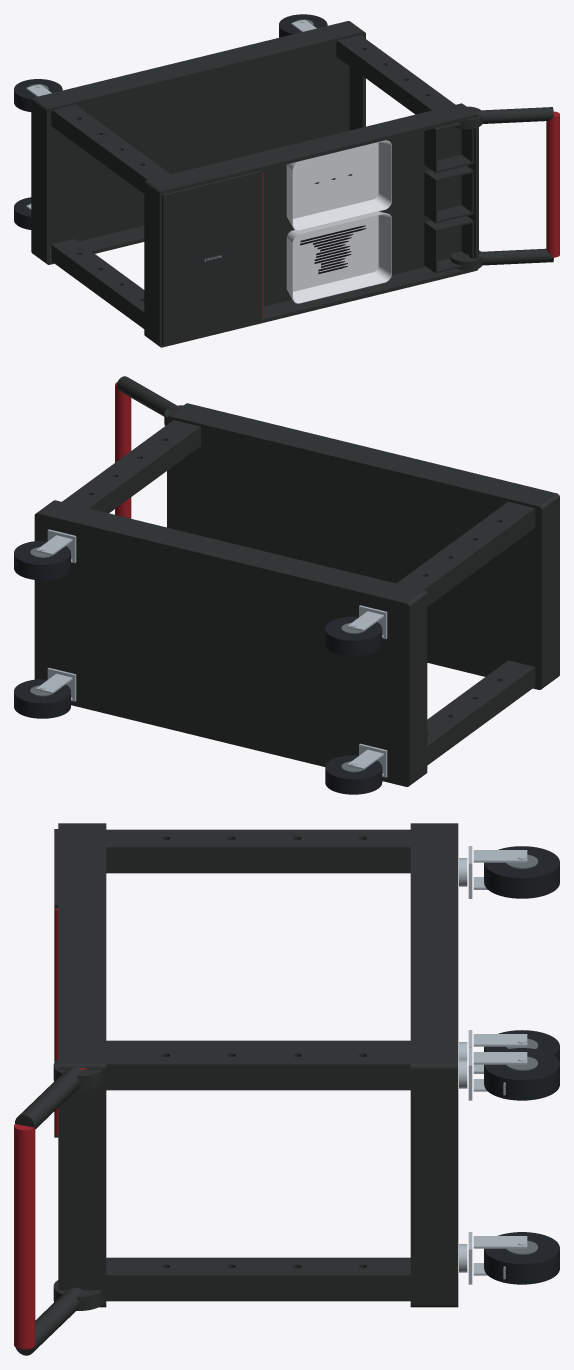
The model's file is weather_station_storage_candidate.glb.
The picture shows the model from 3 angles, top to bottom: view 1: azimuth 30°, elevation 25°; view 2: azimuth 150°, elevation 25°; view 3: azimuth 270°, elevation 25°; orthographic projection. The views are drawn at different scales.
Parts seen in each view (by area): view 1: cart__lower_shelf, cart__upper_shelf, cart__folding_work_surface, plugs_tray__formed_tray, cutoffs_tray__formed_tray, cart__perforated_leg_-0.43_0.195, cart__perforated_leg_0.43_0.195, cart__perforated_leg_-0.43_-0.195, cart__handle_storage_well_0, cart__handle_storage_well_-0.145, cart__handle_storage_well_0.145, cart__handle_crossbar (+7 smaller); view 2: cart__lower_shelf, cart__upper_shelf, cart__perforated_leg_-0.43_0.195, cart__perforated_leg_0.43_0.195, cart__perforated_leg_-0.43_-0.195, cart__rubber_wheel_-0.4_0.17, cart__rubber_wheel_-0.4_-0.17, cart__rubber_wheel_0.4_-0.17, cart__rubber_wheel_0.4_0.17, cart__handle_crossbar, cart__handle_arm_0.204; view 3: cart__lower_shelf, cart__upper_shelf, cart__perforated_leg_0.43_0.195, cart__perforated_leg_0.43_-0.195, cart__perforated_leg_-0.43_0.195, cart__handle_crossbar, cart__rubber_wheel_-0.4_0.17, cart__rubber_wheel_0.4_0.17, cart__rubber_wheel_0.4_-0.17, cart__perforated_leg_-0.43_-0.195, cart__handle_arm_0.204, cart__handle_arm_-0.204 (+6 smaller).
Boxes of the visible parts, x1,y1,x2,y2 form: cart__lower_shelf: (31,21,365,264); cart__upper_shelf: (144,103,478,347); cart__folding_work_surface: (162,170,262,344); plugs_tray__formed_tray: (286,140,391,230); cutoffs_tray__formed_tray: (286,211,391,303); cart__perforated_leg_-0.43_0.195: (51,104,170,193); cart__perforated_leg_0.43_0.195: (336,35,455,114); cart__perforated_leg_-0.43_-0.195: (51,239,144,328); cart__handle_storage_well_0: (424,165,473,223); cart__handle_storage_well_-0.145: (424,216,473,273); cart__handle_storage_well_0.145: (424,122,473,172); cart__handle_crossbar: (546,111,559,257); cart__lower_shelf: (34,500,427,786); cart__upper_shelf: (167,403,559,689); cart__perforated_leg_-0.43_0.195: (396,501,535,606); cart__perforated_leg_0.43_0.195: (62,420,200,513); cart__perforated_leg_-0.43_-0.195: (427,660,535,765); cart__rubber_wheel_-0.4_0.17: (325,616,382,656); cart__rubber_wheel_-0.4_-0.17: (325,755,382,794); cart__rubber_wheel_0.4_-0.17: (14,679,70,718); cart__rubber_wheel_0.4_0.17: (14,540,70,580); cart__handle_crossbar: (115,382,131,518); cart__handle_arm_0.204: (116,376,180,416); cart__lower_shelf: (410,823,458,1307); cart__upper_shelf: (58,823,106,1307); cart__perforated_leg_0.43_0.195: (106,1046,410,1090); cart__perforated_leg_0.43_-0.195: (106,1257,410,1301); cart__perforated_leg_-0.43_0.195: (106,829,410,873); cart__handle_crossbar: (14,1124,35,1349); cart__rubber_wheel_-0.4_0.17: (484,846,559,898); cart__rubber_wheel_0.4_0.17: (484,1048,559,1100); cart__rubber_wheel_0.4_-0.17: (484,1232,559,1284); cart__perforated_leg_-0.43_-0.195: (106,1040,410,1046); cart__handle_arm_0.204: (15,1066,81,1129); cart__handle_arm_-0.204: (15,1287,82,1355).
Bounding box in the file's own units: 1.17 × 0.4509 × 0.9144.
Materials: 11 (1 with a texture image).
